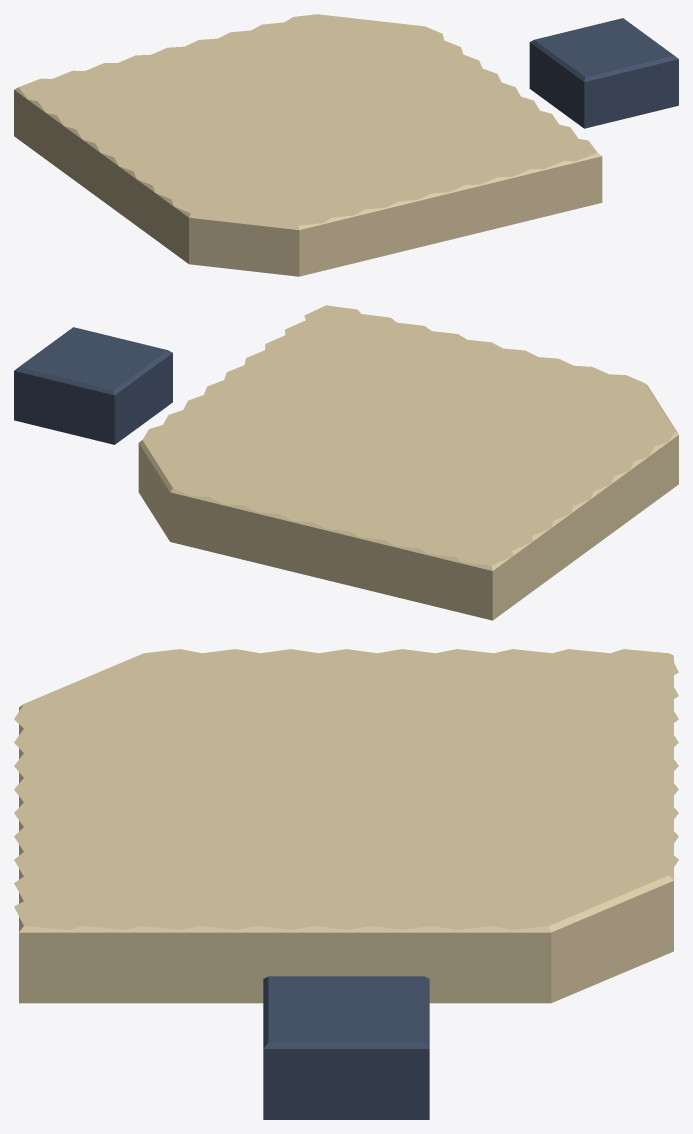
The model's file is mahsulot.glb.
3 views of the same model, one above another, from view 1: azimuth 30°, elevation 25°; view 2: azimuth 150°, elevation 25°; view 3: azimuth 270°, elevation 25° (orthographic). The views are drawn at different scales.
Visible parts, largest first — view 1: mahsulot_A, mahsulot_B; view 2: mahsulot_A, mahsulot_B; view 3: mahsulot_A, mahsulot_B.
Boxes of the visible parts, left/top/right/bottom form: mahsulot_A: left=14, top=14, right=602, bottom=276; mahsulot_B: left=529, top=18, right=678, bottom=128; mahsulot_A: left=138, top=305, right=678, bottom=620; mahsulot_B: left=14, top=327, right=172, bottom=444; mahsulot_A: left=14, top=649, right=678, bottom=1003; mahsulot_B: left=263, top=976, right=429, bottom=1119.
Bounding box in the file's own units: 0.2815 × 0.025 × 0.2.
